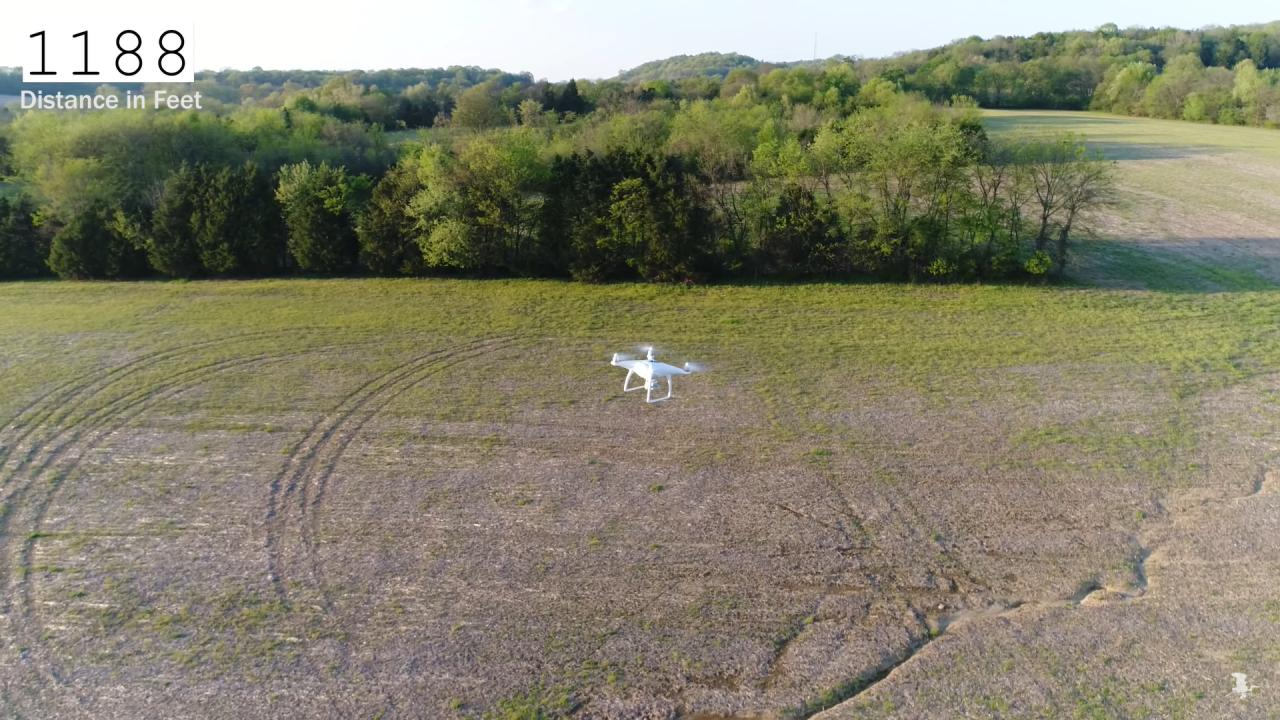Drone: (596, 337, 718, 407)
